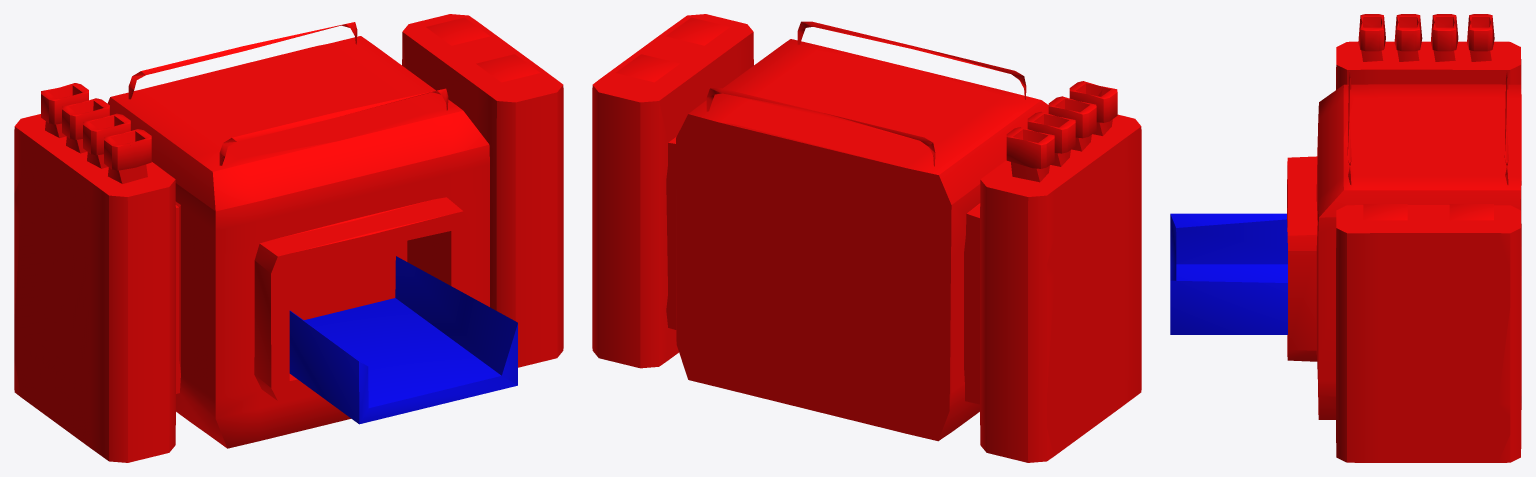
Rendered from main_LavaGenerator001_LOD2.fbx.
3 views of the same model, side by side, from view 1: azimuth 30°, elevation 25°; view 2: azimuth 150°, elevation 25°; view 3: azimuth 270°, elevation 25° (orthographic). The views are drawn at different scales.
Parts seen in each view (by area): view 1: main_LavaGenerator001_main002, main_LavaGenerator001_export002; view 2: main_LavaGenerator001_main002; view 3: main_LavaGenerator001_main002, main_LavaGenerator001_export002.
Boxes of the visible parts, bbox=[...] form: main_LavaGenerator001_main002: bbox=[14, 14, 563, 462]; main_LavaGenerator001_export002: bbox=[289, 256, 517, 424]; main_LavaGenerator001_main002: bbox=[592, 14, 1141, 462]; main_LavaGenerator001_main002: bbox=[1287, 14, 1521, 462]; main_LavaGenerator001_export002: bbox=[1170, 213, 1287, 334].
Size of the model in its own units: 19.35 by 12.39 by 14.97.
